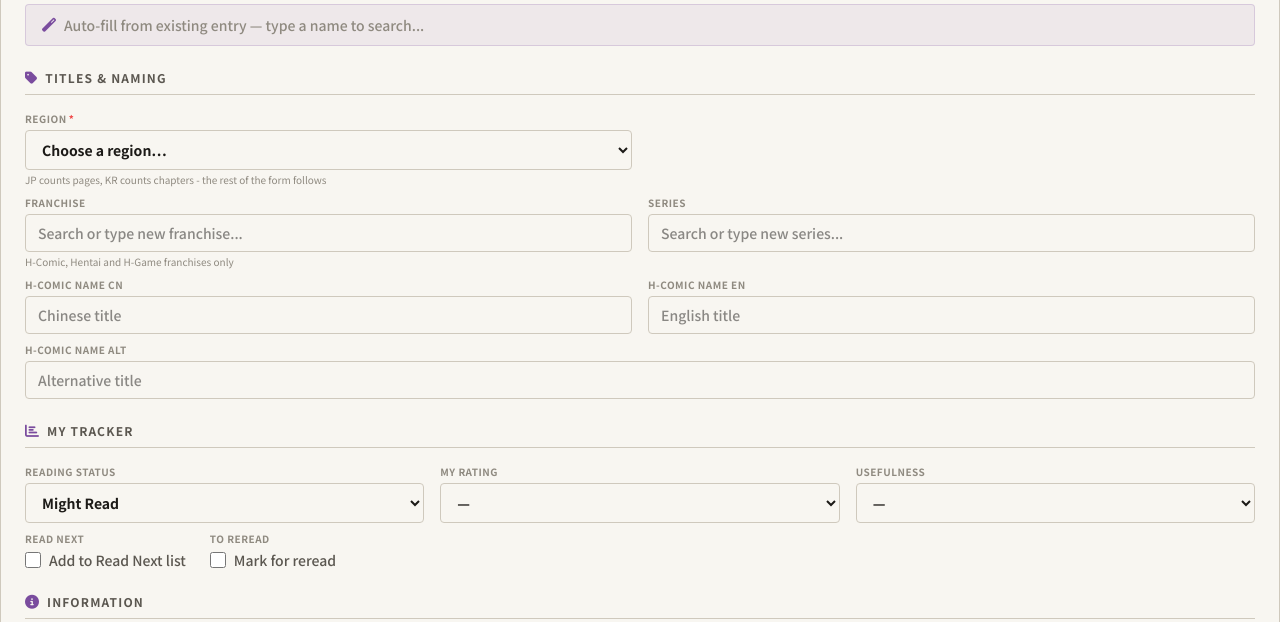
Test: HComicAddTab › sources › offers the publishers, not the storefronts, as a KR entry's Official Source
Select "KR" in the dropdown named "Region" at (328, 150), box [25, 130, 632, 170]
(page scrolled)
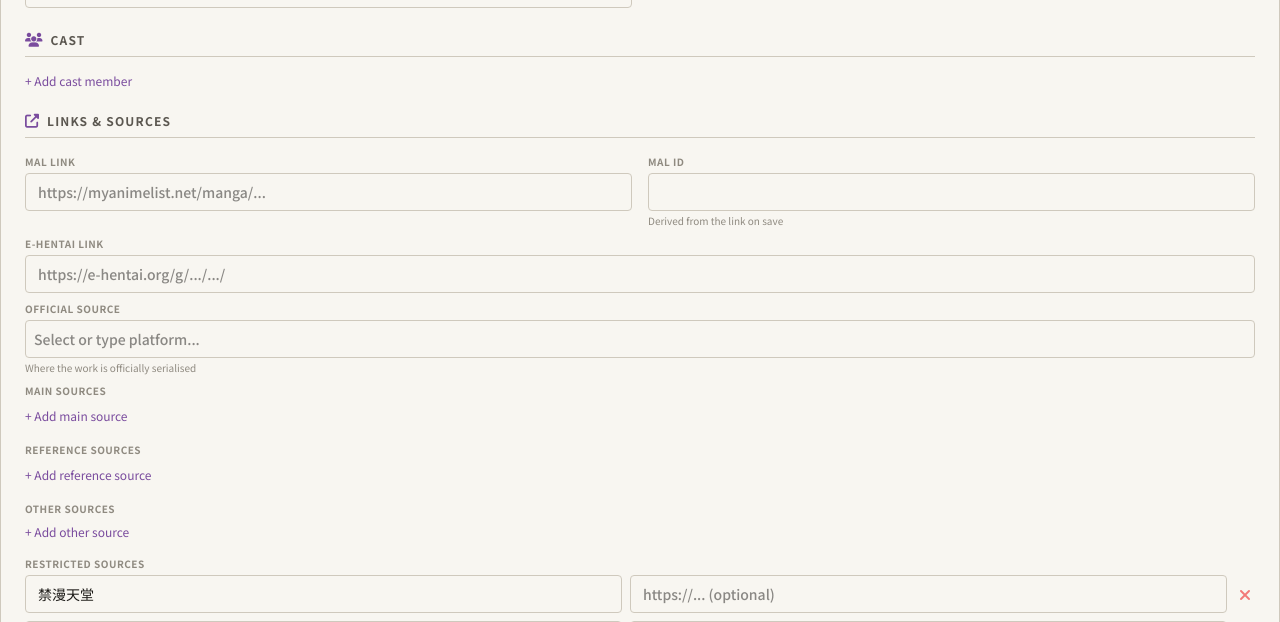
Click the dropdown with placeholder "Select or type platform...".
click(640, 339)  # box [34, 327, 1246, 351]
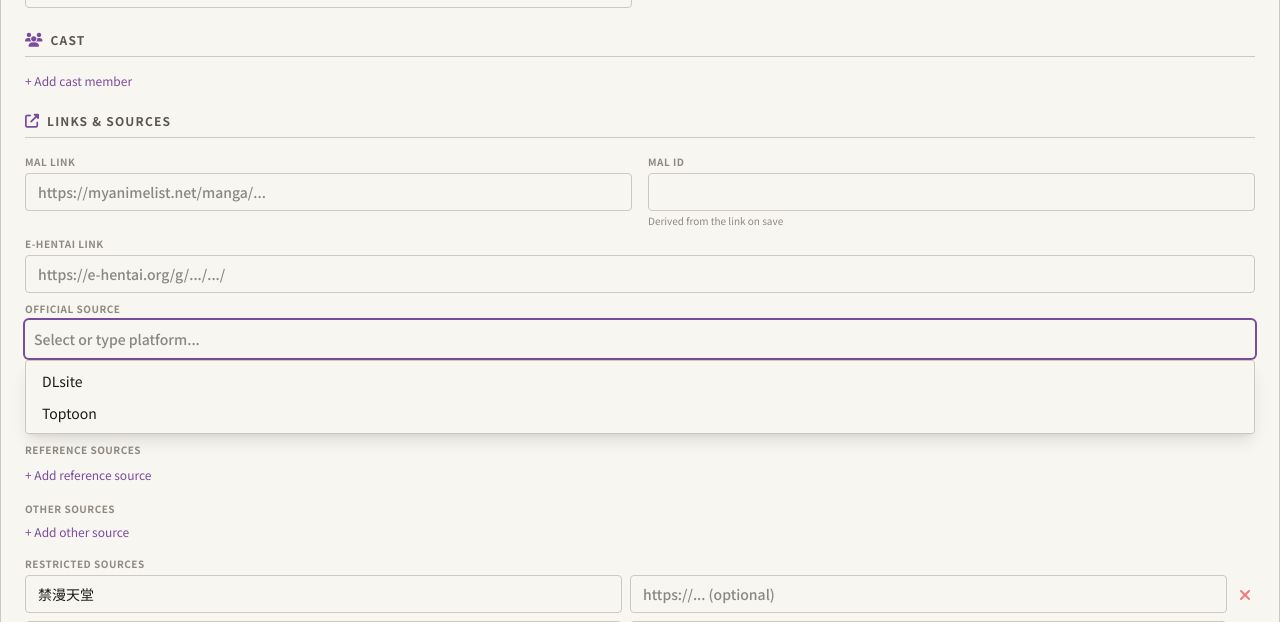
Check: the option "DLsite" is shown, box [42, 371, 82, 391]
Check: the option "Toptoon" is shown, box [42, 403, 97, 423]
